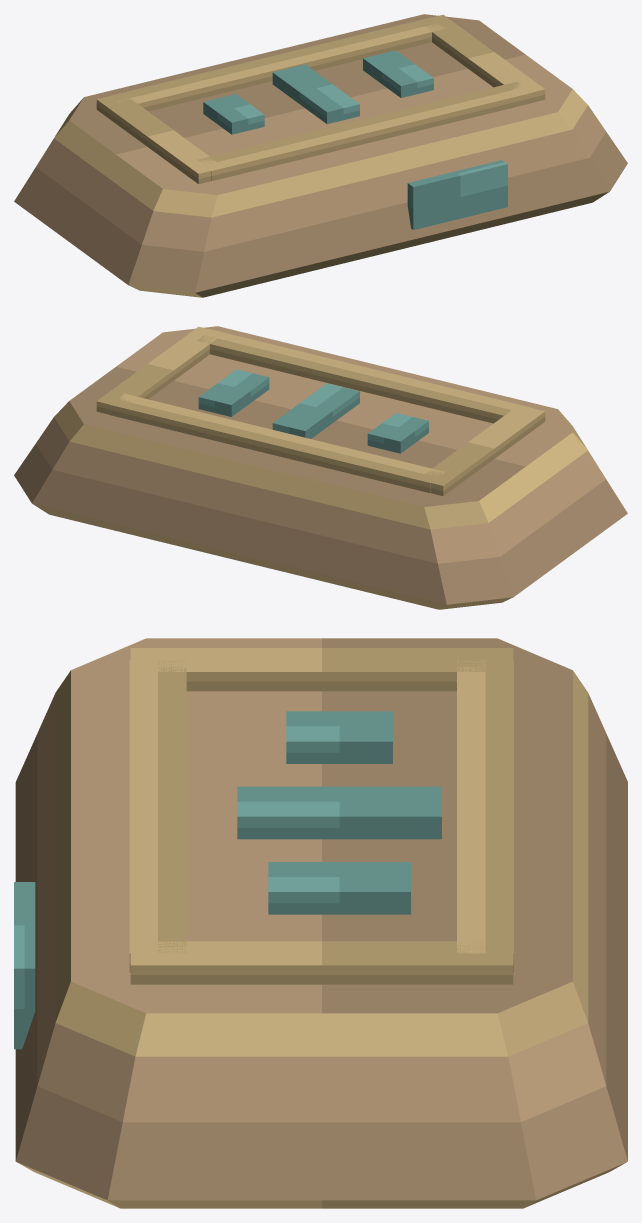
File: qi_tingyu_ingot.obj
3 renders of one model, top to bottom at view 1: azimuth 30°, elevation 25°; view 2: azimuth 150°, elevation 25°; view 3: azimuth 270°, elevation 25°, orthographic. The views are drawn at different scales.
Visible parts, largest first — view 1: ingot_body, ingot_window_end_1, ingot_window_end_-1, ingot_glaze_window, ingot_window_side_-1, ingot_window_side_1, ingot_rain_1, ingot_rain_2, ingot_rain_0; view 2: ingot_body, ingot_window_end_-1, ingot_window_end_1, ingot_window_side_-1, ingot_window_side_1, ingot_rain_1, ingot_rain_2, ingot_rain_0; view 3: ingot_body, ingot_window_end_1, ingot_window_end_-1, ingot_window_side_1, ingot_window_side_-1, ingot_rain_1, ingot_rain_2, ingot_rain_0, ingot_glaze_window.
Part boxes in pixels (bbox=[...]): ingot_body: bbox=[14, 14, 627, 297]; ingot_window_end_1: bbox=[197, 81, 532, 180]; ingot_window_end_-1: bbox=[110, 18, 444, 111]; ingot_glaze_window: bbox=[407, 160, 507, 229]; ingot_window_side_-1: bbox=[96, 94, 223, 184]; ingot_window_side_1: bbox=[418, 14, 545, 102]; ingot_rain_1: bbox=[272, 64, 359, 124]; ingot_rain_2: bbox=[363, 50, 433, 97]; ingot_rain_0: bbox=[203, 94, 264, 134]; ingot_body: bbox=[14, 326, 627, 609]; ingot_window_end_-1: bbox=[109, 393, 444, 492]; ingot_window_end_1: bbox=[197, 330, 531, 423]; ingot_window_side_-1: bbox=[418, 405, 545, 496]; ingot_window_side_1: bbox=[96, 326, 224, 414]; ingot_rain_1: bbox=[272, 383, 359, 438]; ingot_rain_2: bbox=[198, 369, 269, 416]; ingot_rain_0: bbox=[367, 413, 428, 453]; ingot_body: bbox=[15, 638, 627, 1208]; ingot_window_end_1: bbox=[129, 660, 186, 972]; ingot_window_end_-1: bbox=[457, 660, 513, 972]; ingot_window_side_1: bbox=[130, 941, 513, 984]; ingot_window_side_-1: bbox=[130, 648, 513, 691]; ingot_rain_1: bbox=[237, 786, 441, 839]; ingot_rain_2: bbox=[268, 862, 410, 914]; ingot_rain_0: bbox=[286, 711, 392, 763]; ingot_glaze_window: bbox=[14, 882, 35, 1049].
Size of the model in its own units: 0.38 by 0.0744 by 0.2156.
